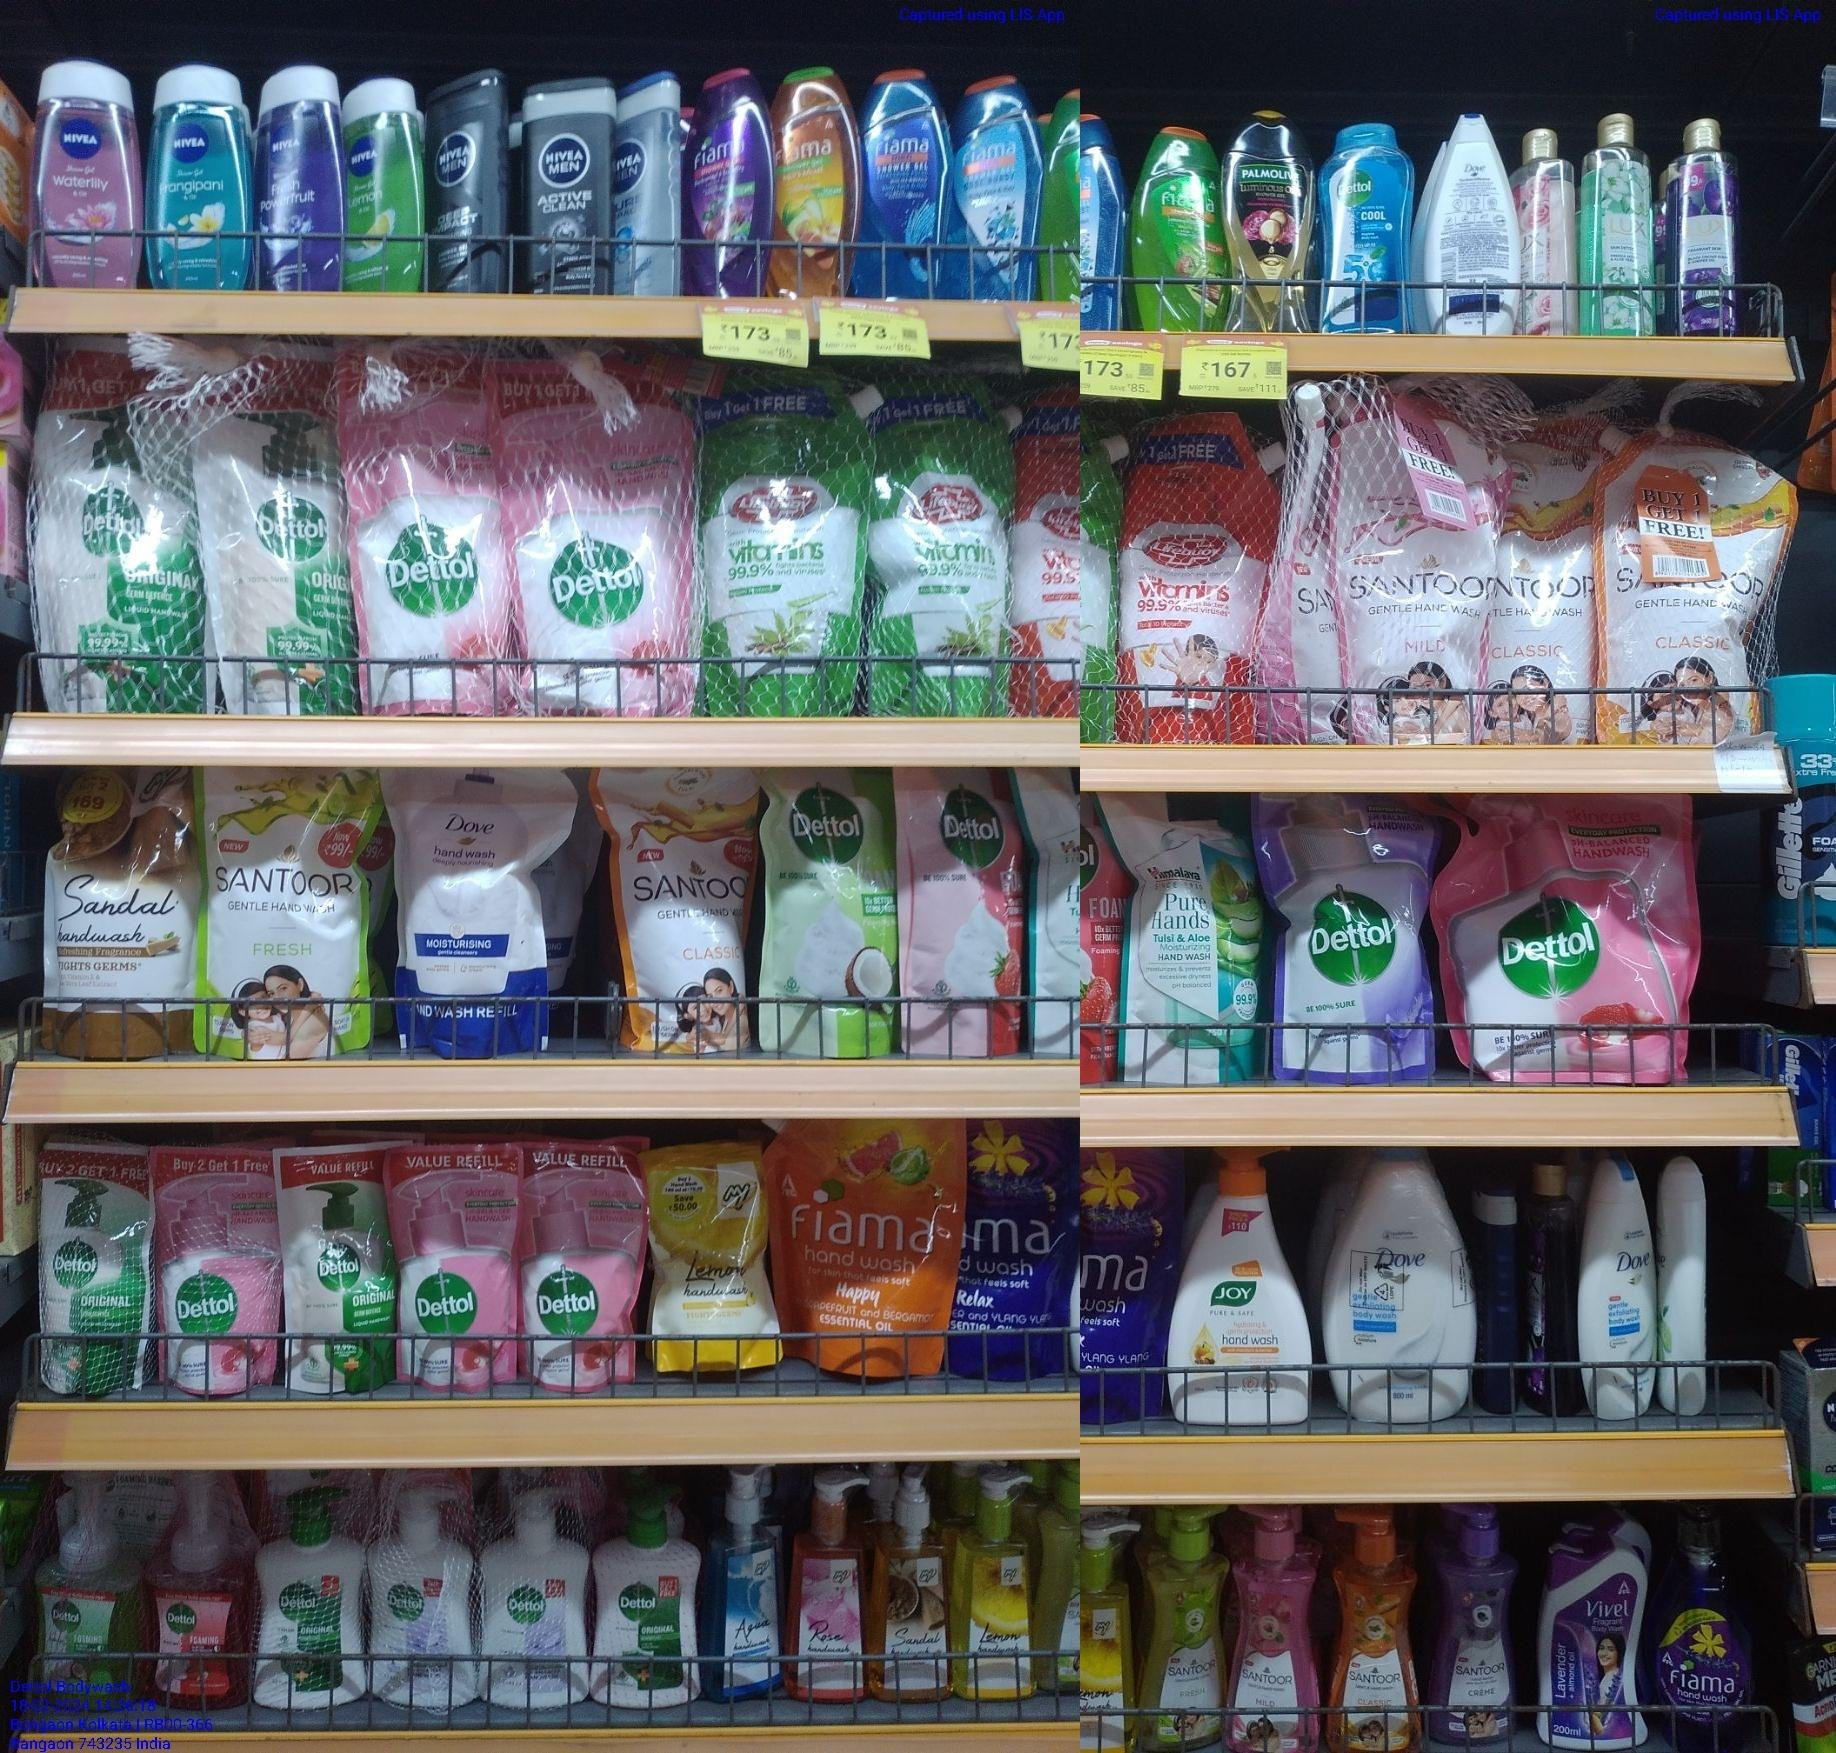Dettol_Bodywash_Cool: (1318, 118, 1413, 341)
Dove_Gentle_Exfoliating_Body_Wash_250ML: (1579, 1154, 1659, 1427)
Fiama_Shower_Gel_Lemongrass_and_Jojoba_250ML: (1138, 128, 1225, 331)
Fiama_Shower_Gel_Peach_and_Avocado_250ML: (777, 67, 852, 295)
Lux_Black_Orchid_Scent_and_Juniper_Oil_Body_Wash_245ML: (1672, 112, 1749, 333)
Lux_Body_Wash_Skin_Detox_Freesia_Scent_and_Alove_Vera_245ML: (1574, 110, 1659, 330)
Nivea_Shower_Gel_Frangipani_and_Oil_250ML: (149, 67, 254, 285)
Nivea_Shower_Gel_Fresh_Powerfruit_250ML: (257, 67, 348, 297)
Nivea_Shower_Gel_Lemon_and_Oil_250ML: (351, 77, 431, 297)
Nivea_Shower_Gel_Waterlily_and_Oil_250ML: (31, 57, 144, 289)
Palmolive_Luminous_Oils_Invigorating_Macadamia_Oil_With_Peony_250ML: (1229, 116, 1310, 343)
